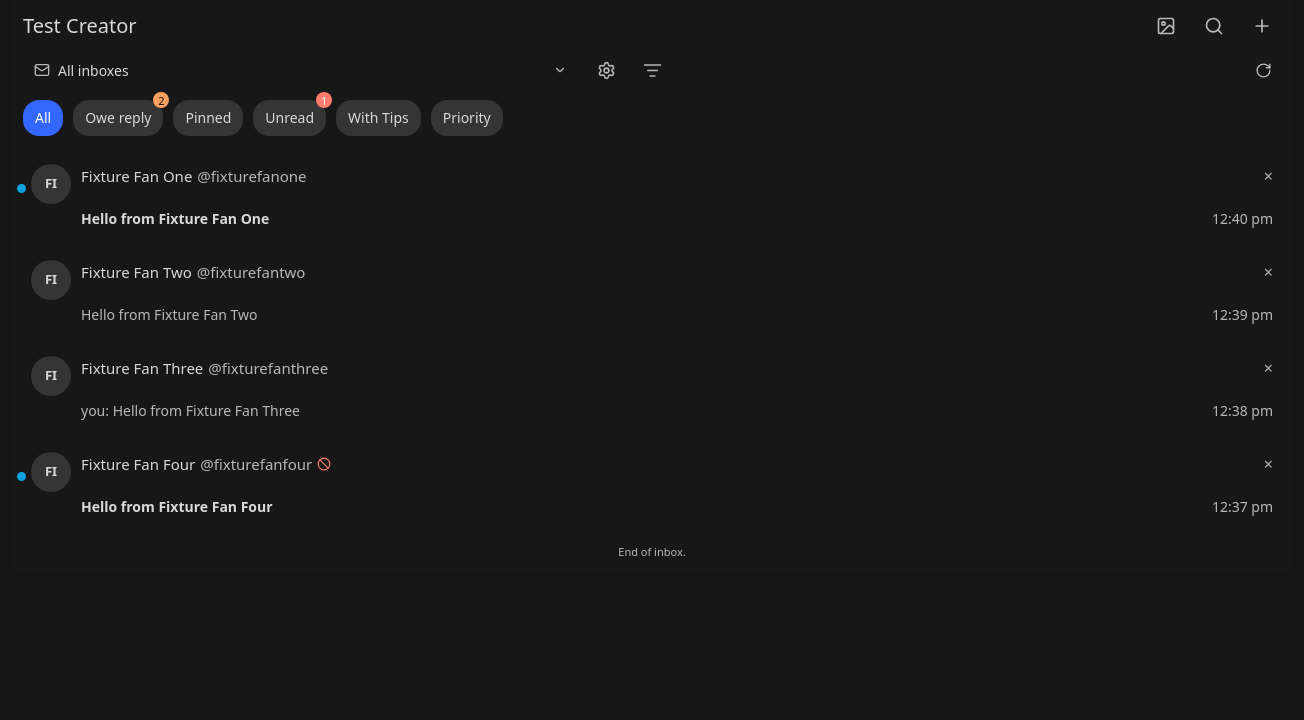
Test: FanList › counts the unread chats of the All set on the Unread chip, and leaves All without a badge
expect the button "Unread 1" is shown: met, box [253,100,326,136]
expect the button "All" is shown: met, box [23,100,63,136]
# The Unread count stays on the All set while another filter is active.
Click the button "Pinned". click: (208, 118)
box: [173,100,243,136]
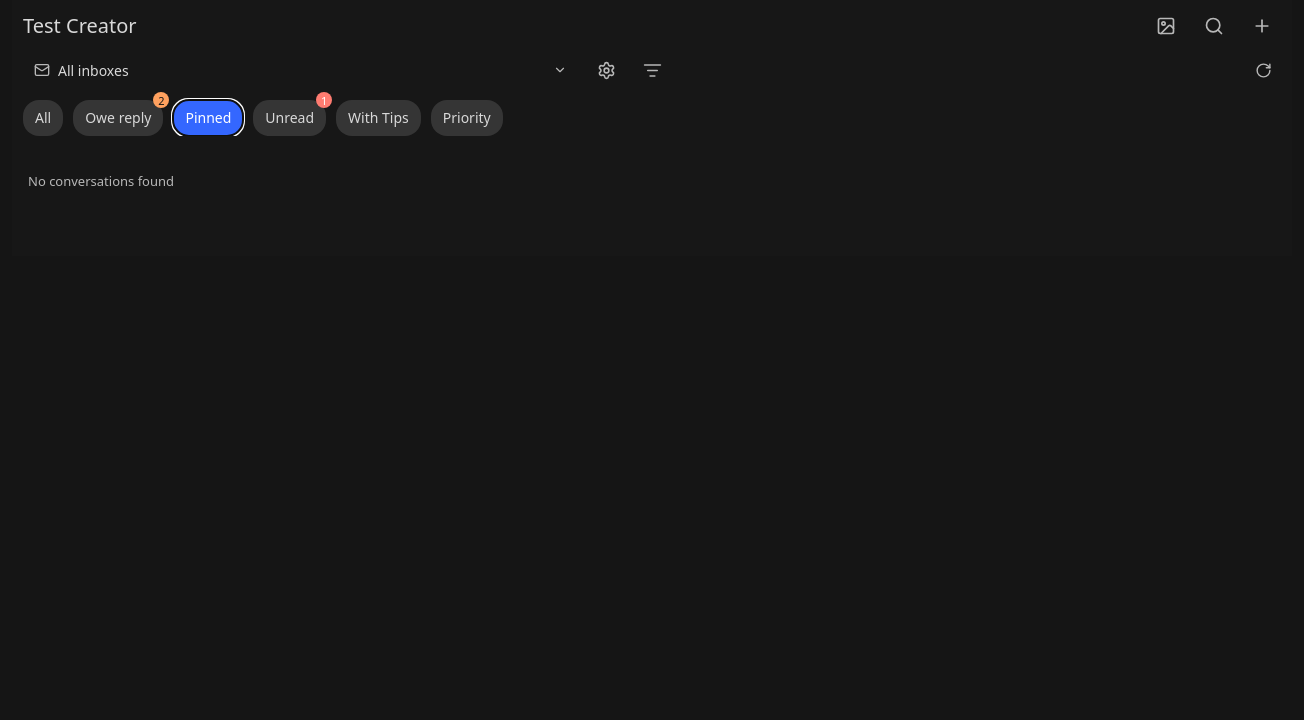
expect the button "Unread 1" is shown: met, box [253,100,326,136]
expect the button "Fixture Fan Three" is gone: met
